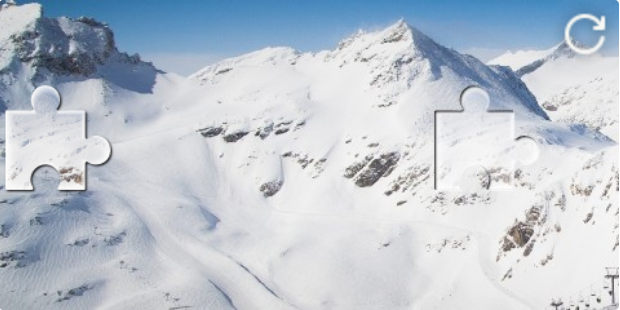target: (435, 86, 539, 191)
